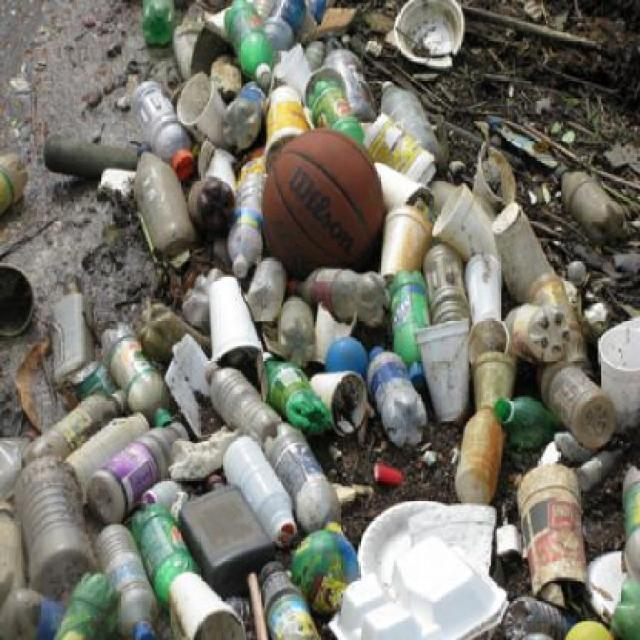garbage: (58, 251, 290, 622), (392, 188, 566, 485), (28, 82, 237, 320), (329, 506, 639, 638), (237, 285, 506, 421), (165, 0, 374, 131)
